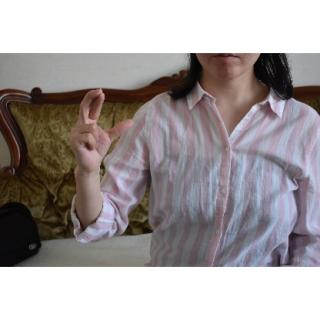DHELL: (65, 82, 140, 175)
